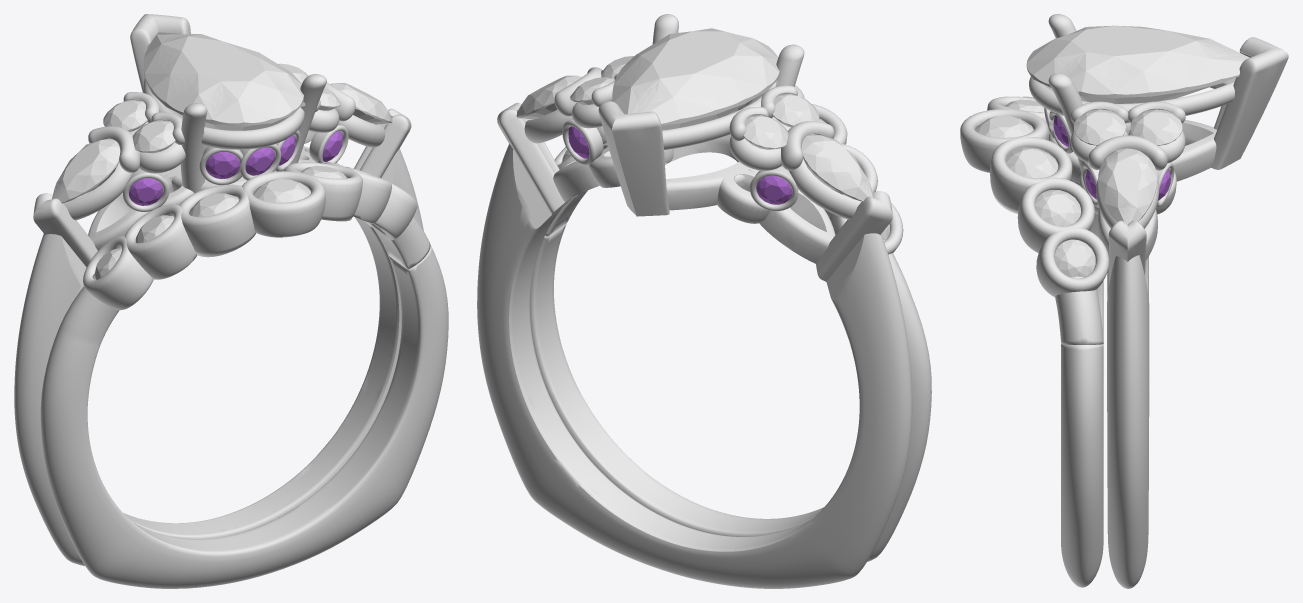
Rendered from JulieV2extend.glb.
The picture shows the model from 3 angles, left to right: view 1: azimuth 30°, elevation 25°; view 2: azimuth 150°, elevation 25°; view 3: azimuth 270°, elevation 25°; orthographic projection. The views are drawn at different scales.
Visible parts, largest first — view 1: V2 WB PT for 3d model, Julie PT BOTH for 3d model.039, Julie dia BOTH for 3d model.006, Julie dia BOTH for 3d model.007, Julie PT BOTH for 3d model.073, Julie PT BOTH for 3d model.180, Julie PT BOTH for 3d model.173, Julie PT BOTH for 3d model.096, Julie PT BOTH for 3d model.088, Julie PT BOTH for 3d model.051, Julie PT BOTH for 3d model.137, Julie dia BOTH for 3d model.005 (+16 smaller); view 2: Julie PT BOTH for 3d model.039, V2 WB PT for 3d model, Julie dia BOTH for 3d model.006, Julie PT BOTH for 3d model.088, Julie dia BOTH for 3d model.007, Julie PT BOTH for 3d model.096, Julie PT BOTH for 3d model.180, Julie PT BOTH for 3d model.068, Julie PT BOTH for 3d model.112, Julie PT BOTH for 3d model.051, Julie PT BOTH for 3d model.065, Julie PT BOTH for 3d model.073 (+17 smaller); view 3: V2 WB PT for 3d model, Julie PT BOTH for 3d model.039, Julie dia BOTH for 3d model.006, Julie PT BOTH for 3d model.088, Julie dia BOTH for 3d model.005, Julie PT BOTH for 3d model.073, Julie PT BOTH for 3d model.112, Julie PT BOTH for 3d model.096, Julie dia BOTH for 3d model.010, Julie dia BOTH for 3d model.004, Julie PT BOTH for 3d model.128, V2 WB dia for 3d model.005 (+11 smaller).
Boxes of the visible parts, x1=… form: V2 WB PT for 3d model: x1=40, y1=162, x2=448, y2=588; Julie PT BOTH for 3d model.039: x1=14, y1=148, x2=423, y2=566; Julie dia BOTH for 3d model.006: x1=143, y1=34, x2=303, y2=130; Julie dia BOTH for 3d model.007: x1=52, y1=138, x2=120, y2=203; Julie PT BOTH for 3d model.073: x1=143, y1=79, x2=304, y2=149; Julie PT BOTH for 3d model.180: x1=33, y1=193, x2=97, y2=267; Julie PT BOTH for 3d model.173: x1=180, y1=103, x2=207, y2=193; Julie PT BOTH for 3d model.096: x1=354, y1=108, x2=411, y2=177; Julie PT BOTH for 3d model.088: x1=130, y1=14, x2=190, y2=117; Julie PT BOTH for 3d model.051: x1=63, y1=162, x2=132, y2=220; Julie PT BOTH for 3d model.137: x1=88, y1=126, x2=140, y2=172; Julie dia BOTH for 3d model.005: x1=330, y1=83, x2=392, y2=124; Julie PT BOTH for 3d model.039: x1=477, y1=144, x2=912, y2=588; V2 WB PT for 3d model: x1=529, y1=85, x2=931, y2=561; Julie dia BOTH for 3d model.006: x1=612, y1=28, x2=779, y2=129; Julie PT BOTH for 3d model.088: x1=598, y1=101, x2=669, y2=216; Julie dia BOTH for 3d model.007: x1=802, y1=134, x2=873, y2=201; Julie PT BOTH for 3d model.096: x1=497, y1=102, x2=564, y2=214; Julie PT BOTH for 3d model.180: x1=816, y1=191, x2=892, y2=281; Julie PT BOTH for 3d model.068: x1=759, y1=189, x2=835, y2=263; Julie PT BOTH for 3d model.112: x1=666, y1=162, x2=754, y2=210; Julie PT BOTH for 3d model.051: x1=788, y1=159, x2=861, y2=219; Julie PT BOTH for 3d model.065: x1=717, y1=168, x2=770, y2=223; Julie PT BOTH for 3d model.073: x1=662, y1=81, x2=776, y2=149; V2 WB PT for 3d model: x1=960, y1=96, x2=1108, y2=587; Julie PT BOTH for 3d model.039: x1=1107, y1=255, x2=1149, y2=588; Julie dia BOTH for 3d model.006: x1=1026, y1=25, x2=1249, y2=103; Julie PT BOTH for 3d model.088: x1=1211, y1=37, x2=1288, y2=169; Julie dia BOTH for 3d model.005: x1=1098, y1=148, x2=1157, y2=224; Julie PT BOTH for 3d model.073: x1=1029, y1=76, x2=1235, y2=122; Julie PT BOTH for 3d model.112: x1=1048, y1=119, x2=1216, y2=183; Julie PT BOTH for 3d model.096: x1=1108, y1=220, x2=1146, y2=277; Julie dia BOTH for 3d model.010: x1=1130, y1=109, x2=1182, y2=145; Julie dia BOTH for 3d model.004: x1=1074, y1=109, x2=1125, y2=145; Julie PT BOTH for 3d model.128: x1=1088, y1=135, x2=1167, y2=170; V2 WB dia for 3d model.005: x1=1035, y1=190, x2=1081, y2=226.
Bounding box in the file's own units: 20.5 × 23.8 × 13.9.
